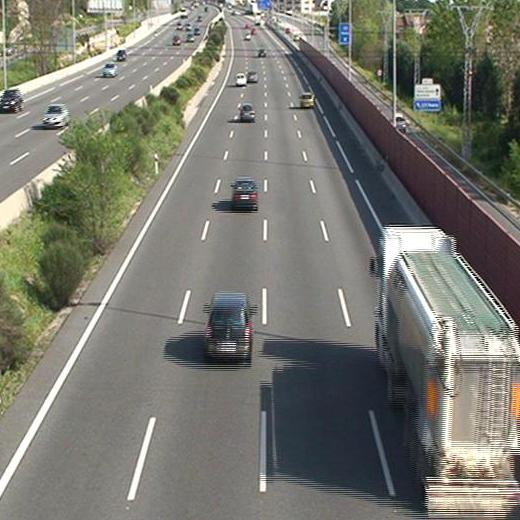car: (206, 293, 252, 356), (231, 179, 257, 206), (240, 103, 255, 120), (299, 92, 313, 108), (234, 74, 246, 86), (247, 70, 258, 81)
tank-truck: (377, 226, 520, 511)
